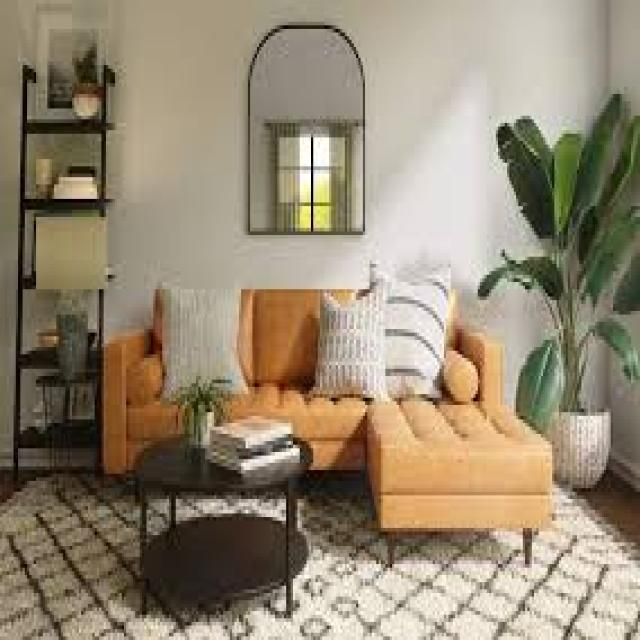Lamp: (32, 199, 104, 412)
Sofa: (105, 261, 552, 557)
Table: (132, 416, 311, 627)
